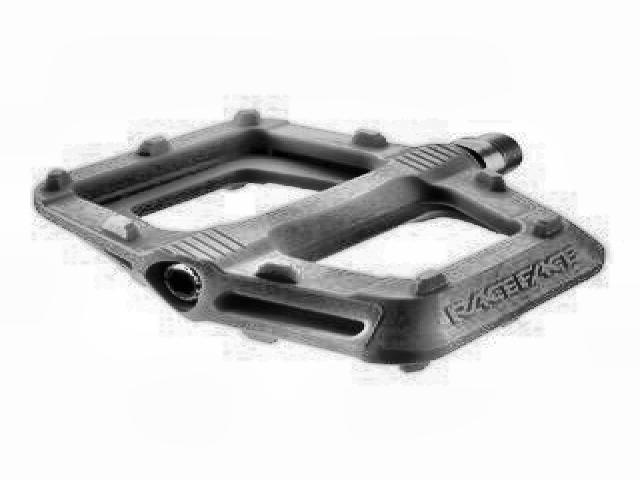pedal: (32, 104, 611, 374)
